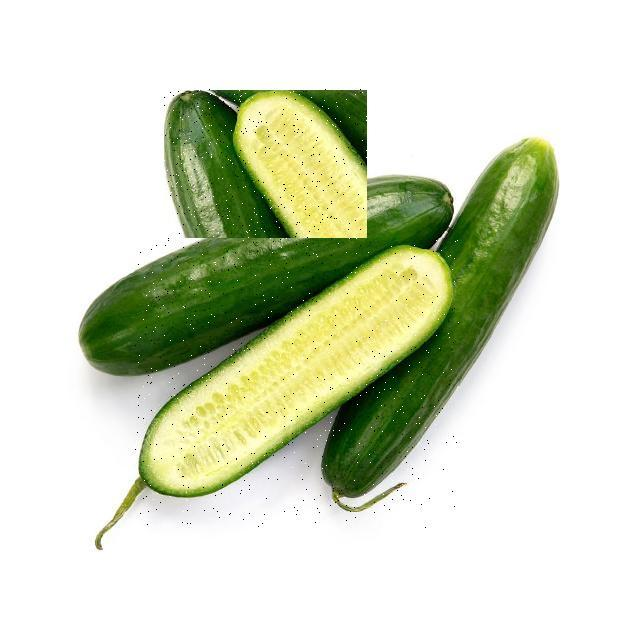Cucumber: (328, 143, 558, 502), (78, 202, 450, 376), (166, 91, 292, 237)
